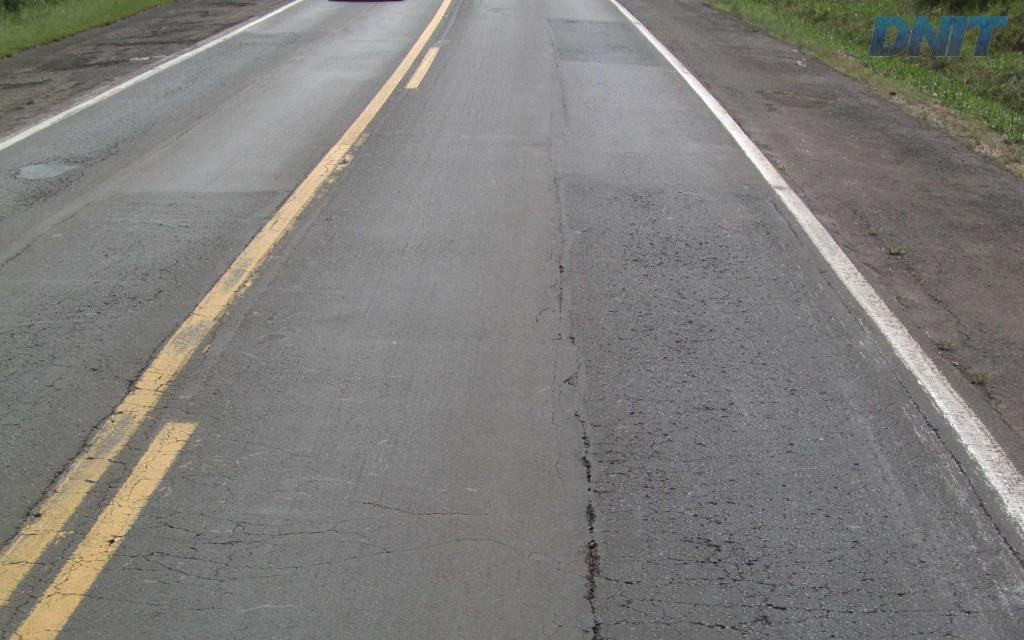crack: (583, 536, 619, 639), (730, 551, 782, 592), (621, 421, 675, 449), (623, 246, 670, 268)
